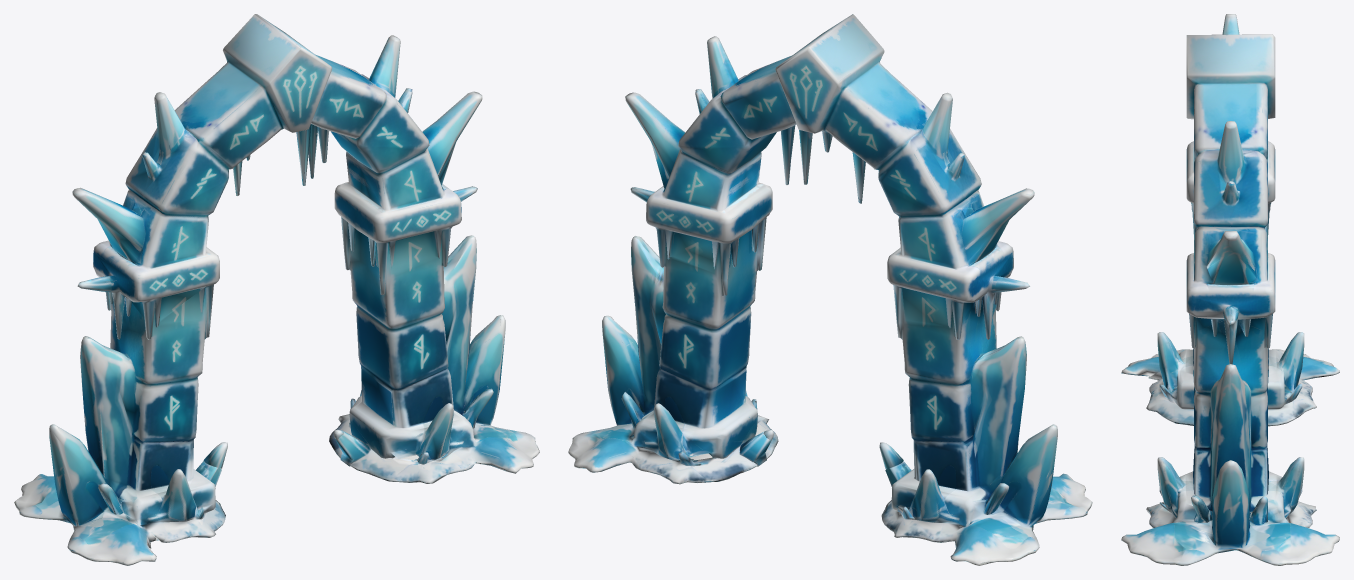
The model's file is wall.glb.
The picture shows the model from 3 angles, left to right: view 1: azimuth 30°, elevation 25°; view 2: azimuth 150°, elevation 25°; view 3: azimuth 270°, elevation 25°; orthographic projection. The views are drawn at different scales.
Size of the model in its own units: 1.91 by 1.77 by 0.8219.
1 material, 1 textured.
